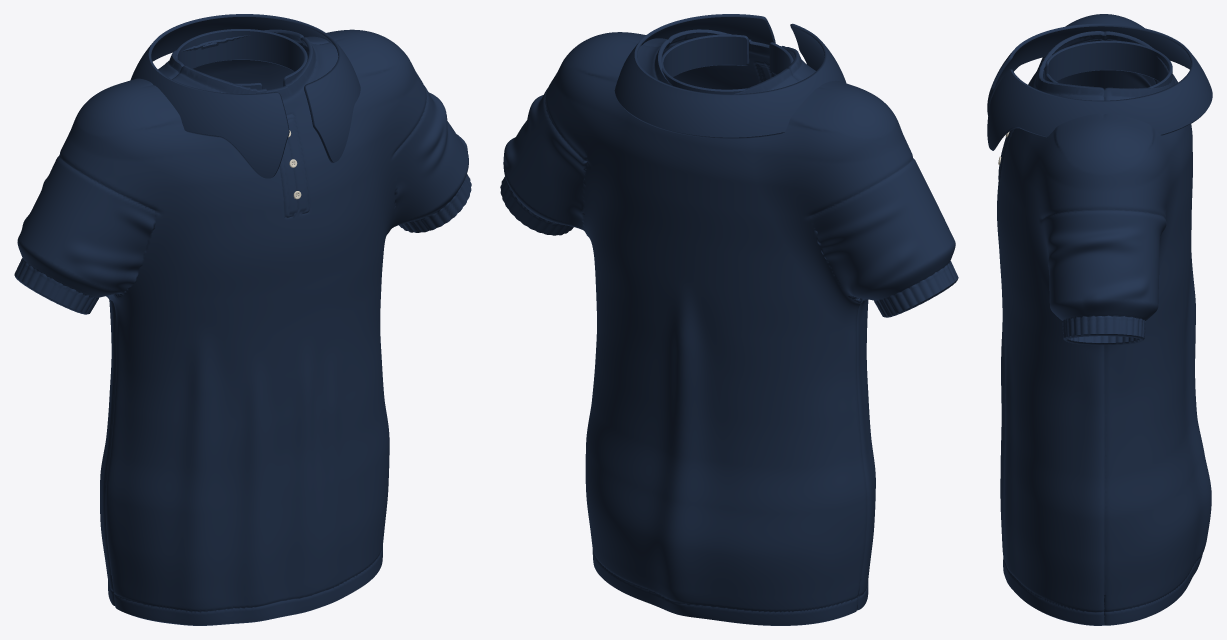
File: 04_polo.glb
The picture shows the model from 3 angles, left to right: view 1: azimuth 30°, elevation 25°; view 2: azimuth 150°, elevation 25°; view 3: azimuth 270°, elevation 25°; orthographic projection. The views are drawn at different scales.
Visible parts, largest first — view 1: body; view 2: body; view 3: body.
Part boxes in pixels (<box>): body: <box>14,14,471,625</box>; body: <box>500,14,958,625</box>; body: <box>987,14,1212,625</box>.
Size of the model in its own units: 0.6563 by 0.7451 by 0.2998.
